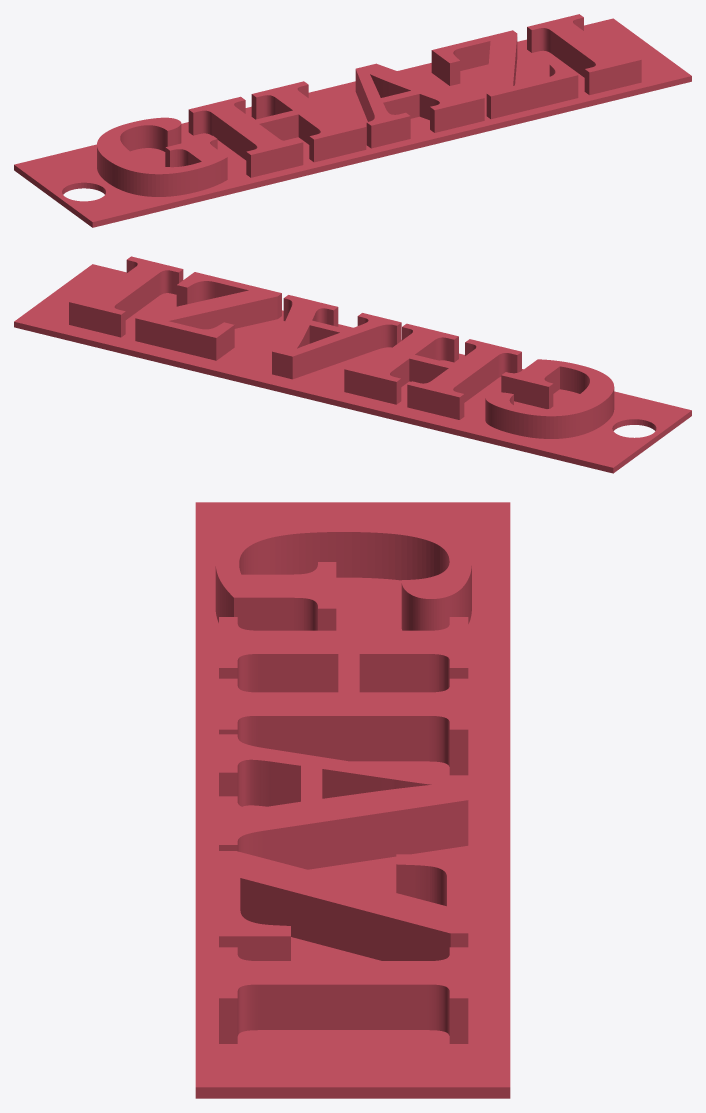
The model's file is Fabulous Amberis-Robo.glb.
3 renders of one model, top to bottom at view 1: azimuth 30°, elevation 25°; view 2: azimuth 150°, elevation 25°; view 3: azimuth 270°, elevation 25°, orthographic. The views are drawn at different scales.
Parts seen in each view (by area): view 1: Mesh_Mesh_head_geo.001_lambert2SG.001; view 2: Mesh_Mesh_head_geo.001_lambert2SG.001; view 3: Mesh_Mesh_head_geo.001_lambert2SG.001.
Boxes of the visible parts, x1,y1,x2,y2 form: Mesh_Mesh_head_geo.001_lambert2SG.001: [14, 14, 691, 227]; Mesh_Mesh_head_geo.001_lambert2SG.001: [14, 256, 691, 473]; Mesh_Mesh_head_geo.001_lambert2SG.001: [195, 502, 510, 1098].
Size of the model in its own units: 0.11 by 0.005 by 0.025.
